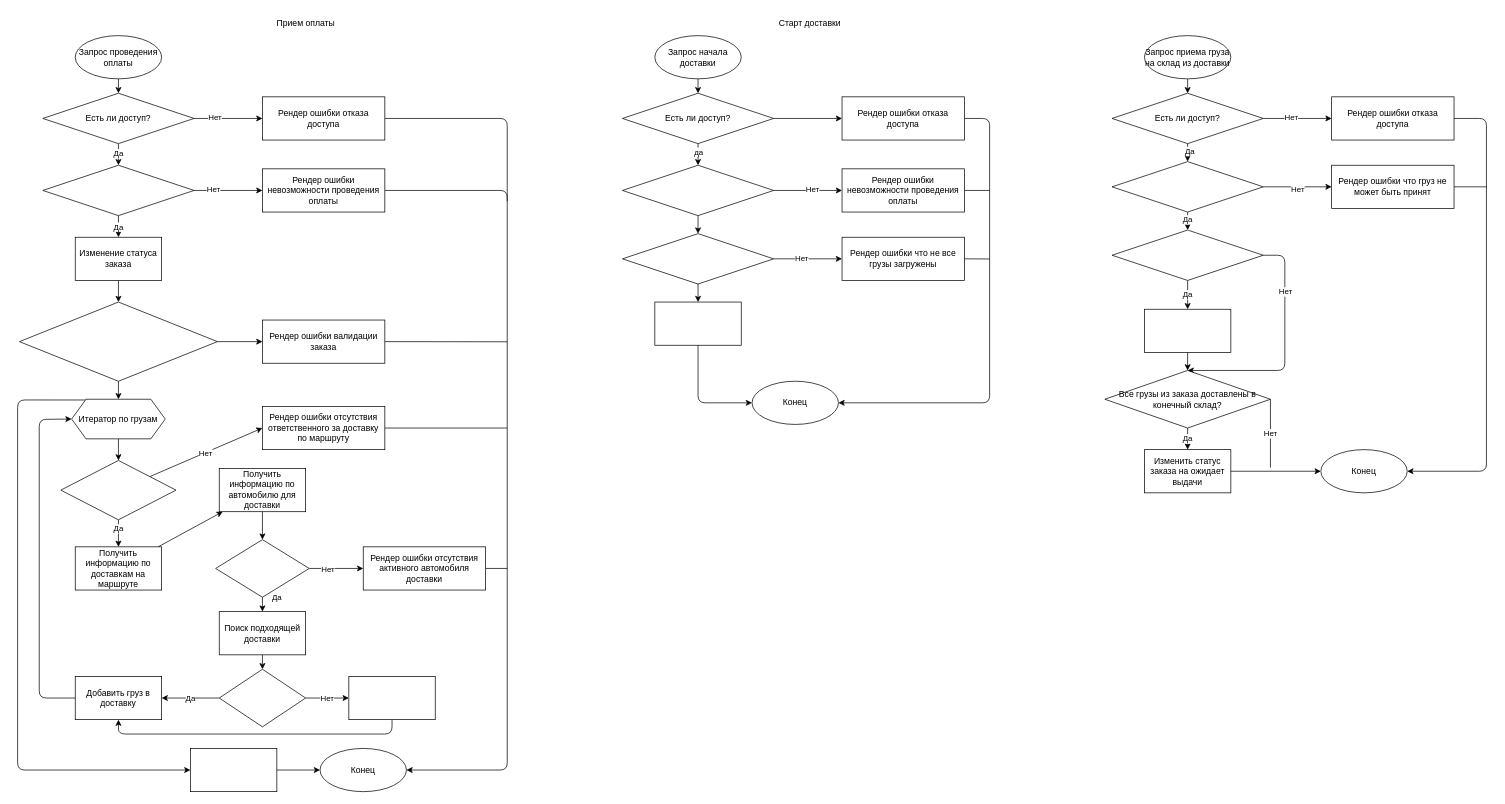
The diagram is 1505 pixels wide and 804 high, and some of its shapes have lost their labels. Each missing label, with the centre of its shape:
Автомобиль найден?: point (262, 568)
Все грузы загружены?: point (698, 258)
Все грузы из доставки выгружены?: point (1187, 254)
Груз может быть выгружен?: point (1187, 186)
Доставка может быть начата?: point (698, 190)
Доставка найдена?: point (262, 698)
Заказ имеет грузы? Заказ имеет стартовый маршрут? Заказ имеет конечный маршрут?: point (118, 341)
Заказ может быть оплачен?: point (118, 190)
Изменить статус доставки: point (697, 323)
Изменить статус доставки на завершеную: point (1187, 330)
Маршрут имеет ответственного?: point (118, 490)
Рендер ответа: point (233, 770)
Создать новую доставку: point (391, 698)
